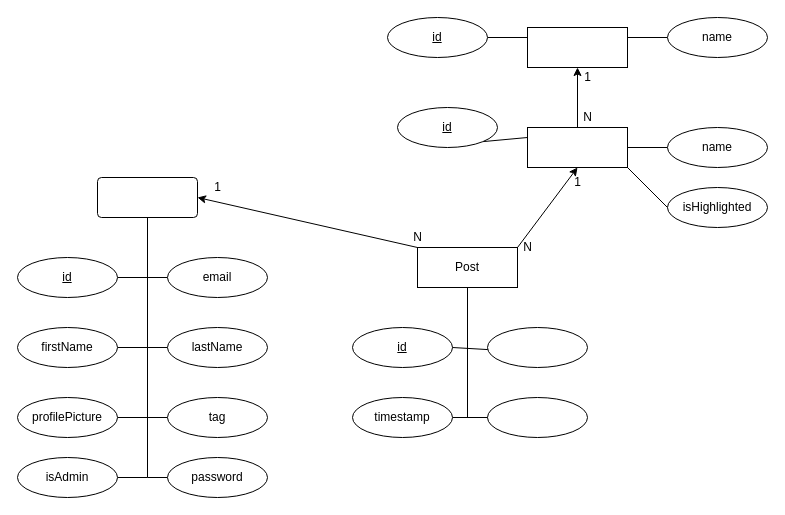
Some shapes in this 785 by 515 pixel diagram are drawn without their labels. The shapes that lost their labels are listed below. From the top down, each one's centre as x and y in pixels, then its label:
the point at 577,47: ThreadGroup
the point at 577,147: Thread
the point at 147,197: User
the point at 537,347: replyId
the point at 537,417: content
